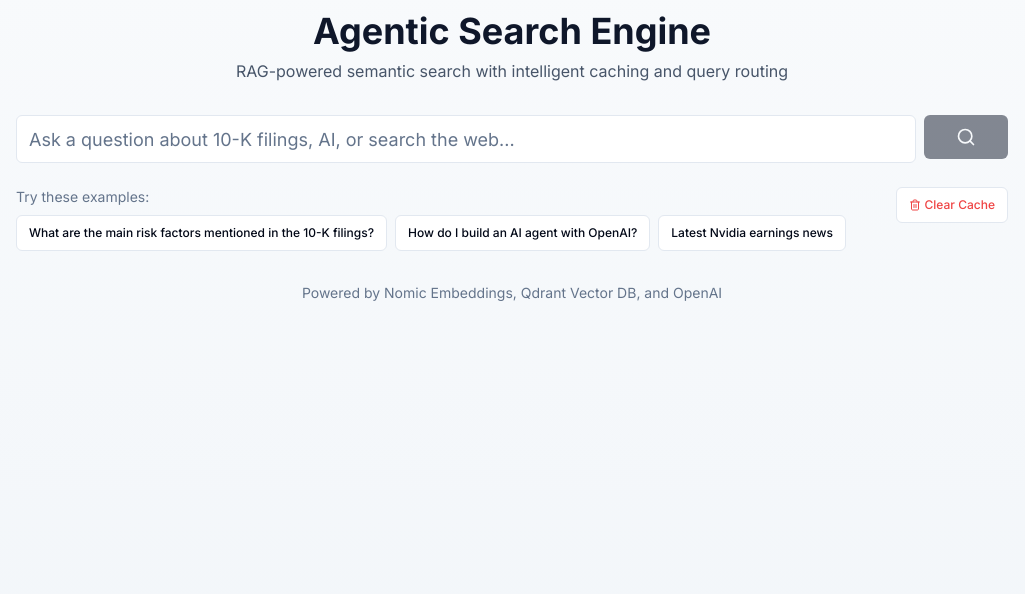
Test: SearchPage › Cache Management › clears cache when clear button is clicked
The image size is (1025, 594).
What coordinates should you click on to do the following:
click the button "Clear Cache"
I would click on:
 (952, 205)
Its box is [896, 187, 1008, 223].
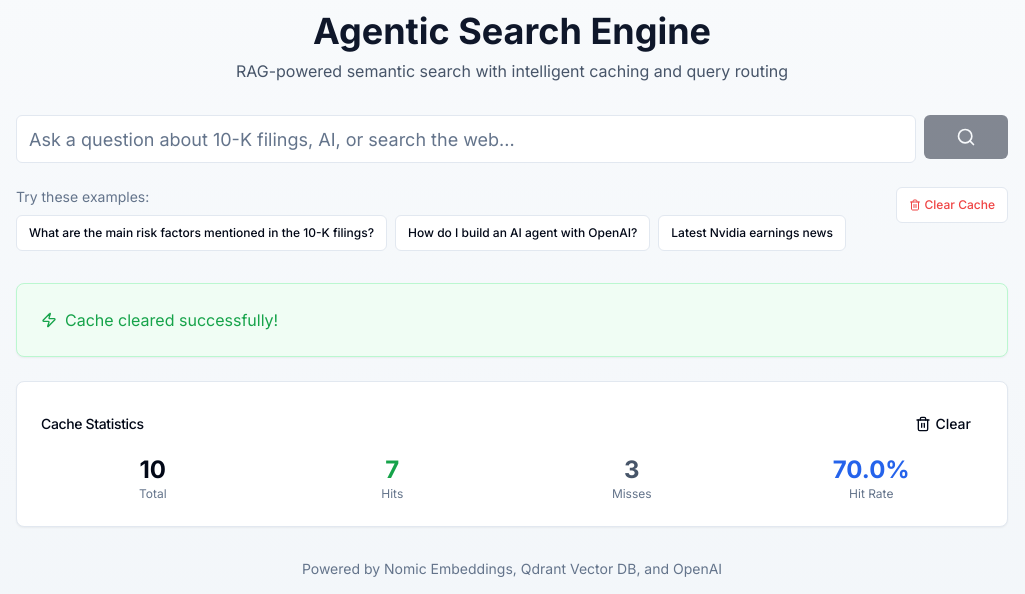
Expected: the text "Cache cleared successfully!" is shown, [41, 310, 278, 330]
